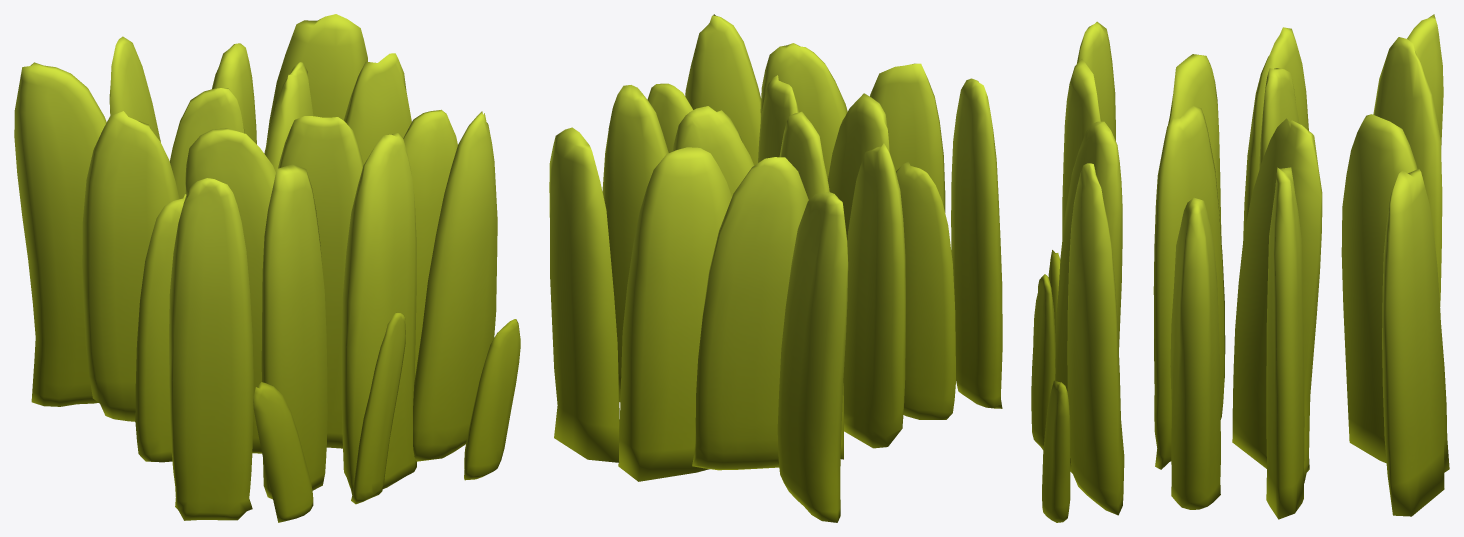
The model's file is Grass_1 - Copy.fbx.
3 renders of one model, left to right at view 1: azimuth 30°, elevation 25°; view 2: azimuth 150°, elevation 25°; view 3: azimuth 270°, elevation 25°, orthographic. The views are drawn at different scales.
Parts seen in each view (by area): view 1: Retopo_Grass1.001; view 2: Retopo_Grass1.001; view 3: Retopo_Grass1.001.
Part boxes in pixels (x1,y1,x2,y2): Retopo_Grass1.001: (14,14,520,522); Retopo_Grass1.001: (549,14,1002,522); Retopo_Grass1.001: (1031,14,1449,522).
Size of the model in its own units: 34.31 by 35.65 by 35.53.
